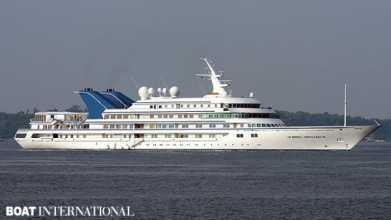youlun: (5, 76, 378, 151)
